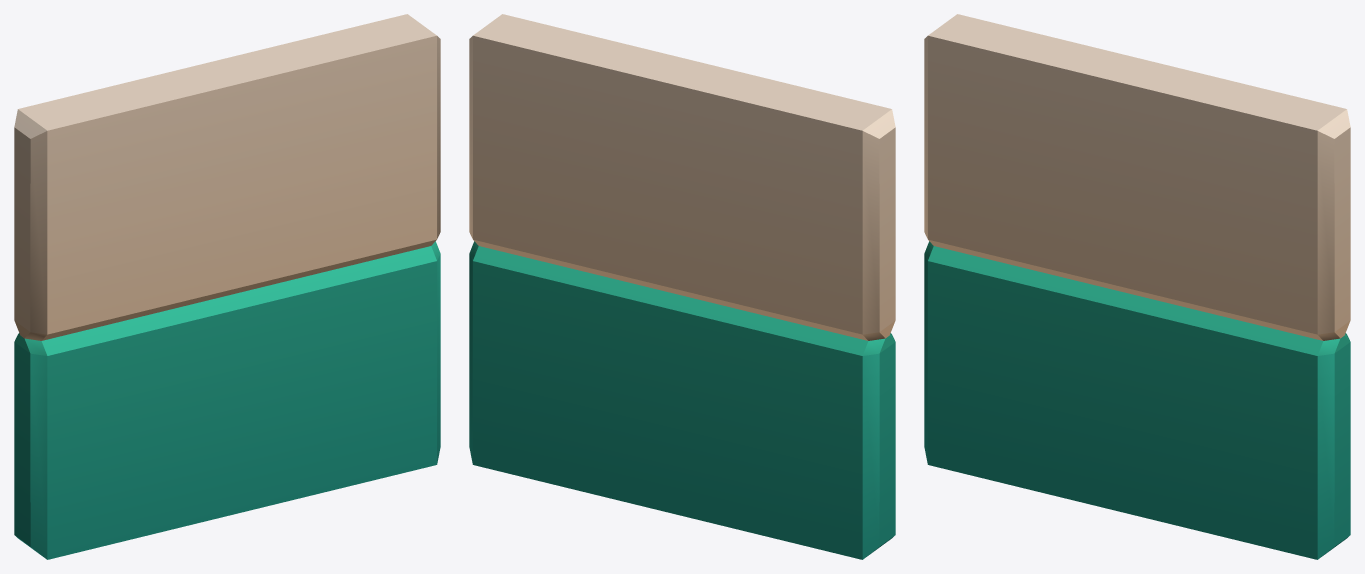
Rendered from wall.glb.
The picture shows the model from 3 angles, left to right: view 1: azimuth 30°, elevation 25°; view 2: azimuth 150°, elevation 25°; view 3: azimuth 330°, elevation 25°; orthographic projection.
Visible parts, largest first — view 1: wall; view 2: wall; view 3: wall.
Boxes of the visible parts, x1,y1,x2,y2 form: wall: (14,14,440,559); wall: (469,14,895,559); wall: (924,14,1350,559).
Size of the model in its own units: 4 by 4 by 0.5.
Materials: 1 (1 with a texture image).
